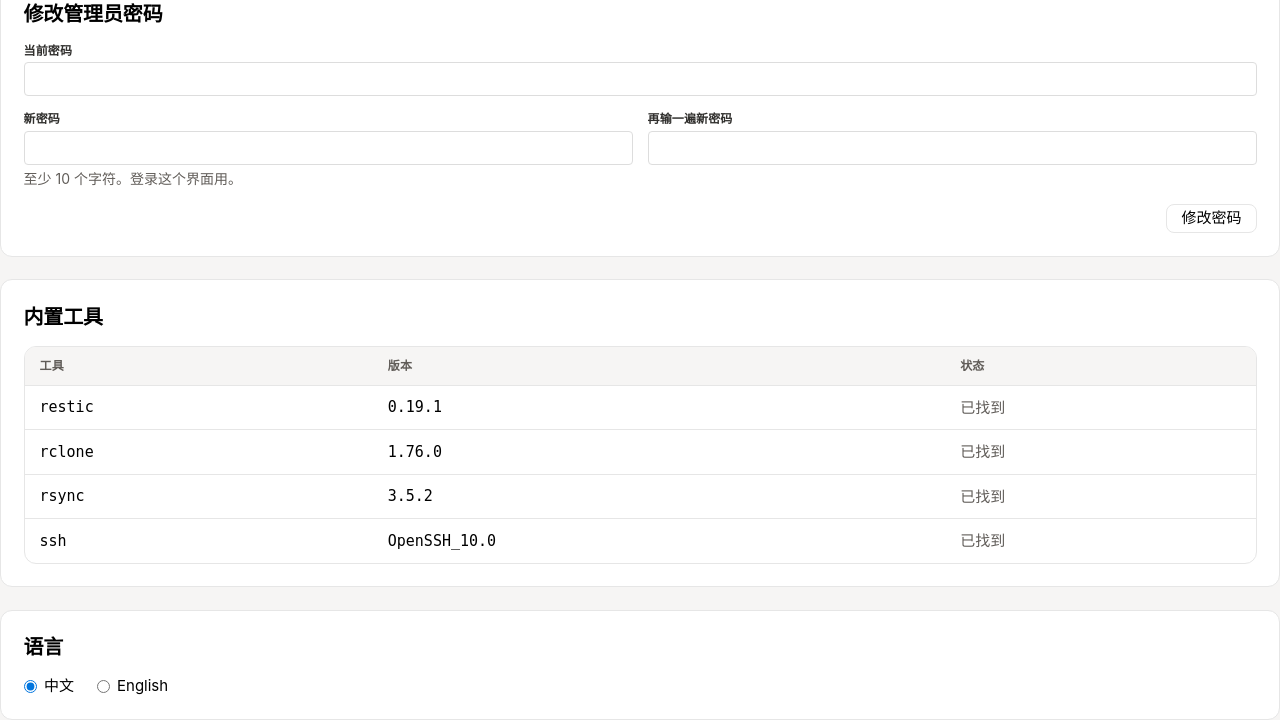
Test: language switch persists
The width and height of the screenshot is (1280, 720).
(page scrolled)
Click the radio button labelled "English" at point(103, 686), box [96,680,110,693]
(page scrolled)
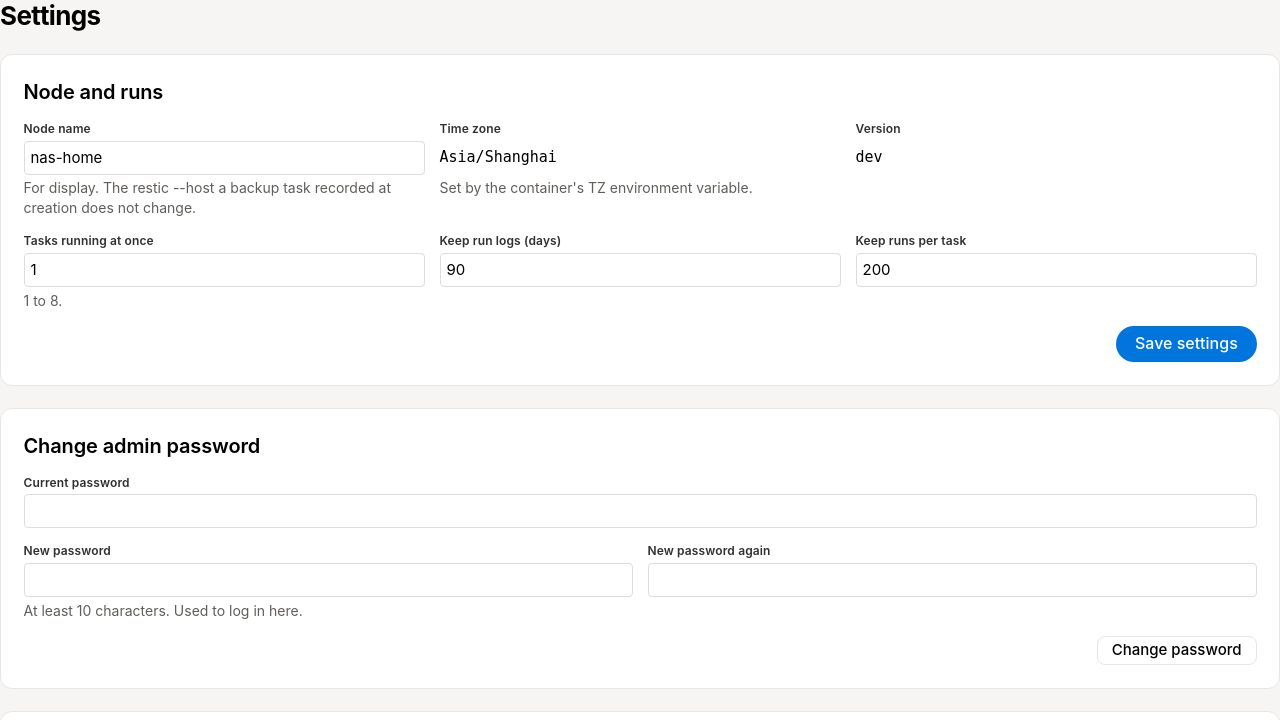
Now the heading "Settings" is shown, box [0,0,100,32]
